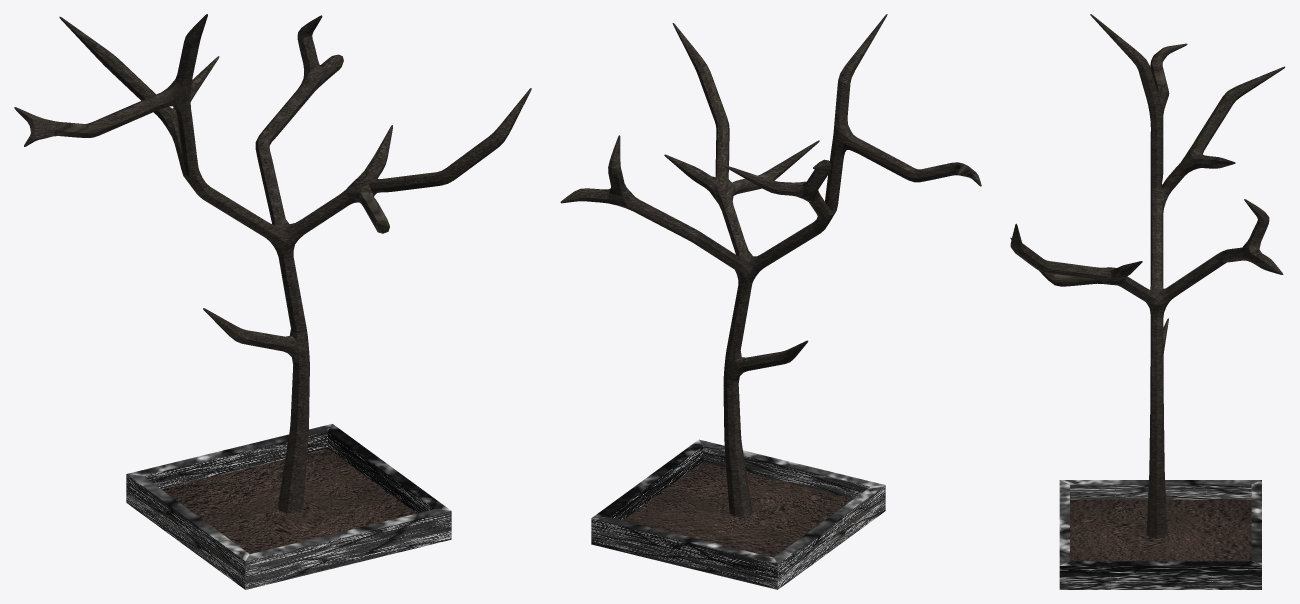
Rendered from tree.obj.
3 views of the same model, side by side, from view 1: azimuth 30°, elevation 25°; view 2: azimuth 150°, elevation 25°; view 3: azimuth 270°, elevation 25° (orthographic). The views are drawn at different scales.
Parts seen in each view (by area): view 1: Cube_Cube.001; view 2: Cube_Cube.001; view 3: Cube_Cube.001.
Boxes of the visible parts, x1,y1,x2,y2 form: Cube_Cube.001: [14, 14, 531, 589]; Cube_Cube.001: [560, 14, 981, 589]; Cube_Cube.001: [1010, 14, 1285, 589].
Bounding box in the file's own units: 10.29 × 13.15 × 6.8.
1 material, 1 textured.
